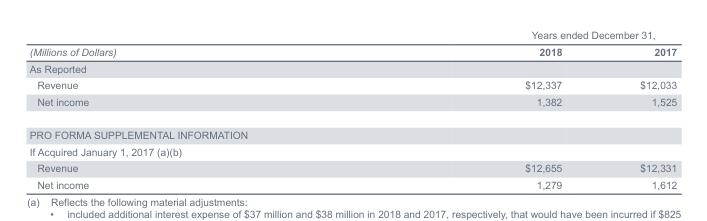table: (28, 29, 676, 189)
table column: (28, 29, 319, 189), (319, 29, 600, 189), (600, 29, 676, 189)
table column header: (28, 29, 676, 59)
table projected row header: (28, 117, 676, 142), (28, 59, 676, 76), (28, 142, 676, 159)
table row: (28, 92, 676, 117), (28, 117, 676, 142), (28, 59, 676, 76), (28, 142, 676, 159), (28, 43, 676, 59), (28, 76, 676, 92), (28, 159, 676, 175), (28, 29, 676, 43), (28, 175, 676, 189)
table spanning cell: (28, 29, 319, 59), (319, 29, 676, 43)
